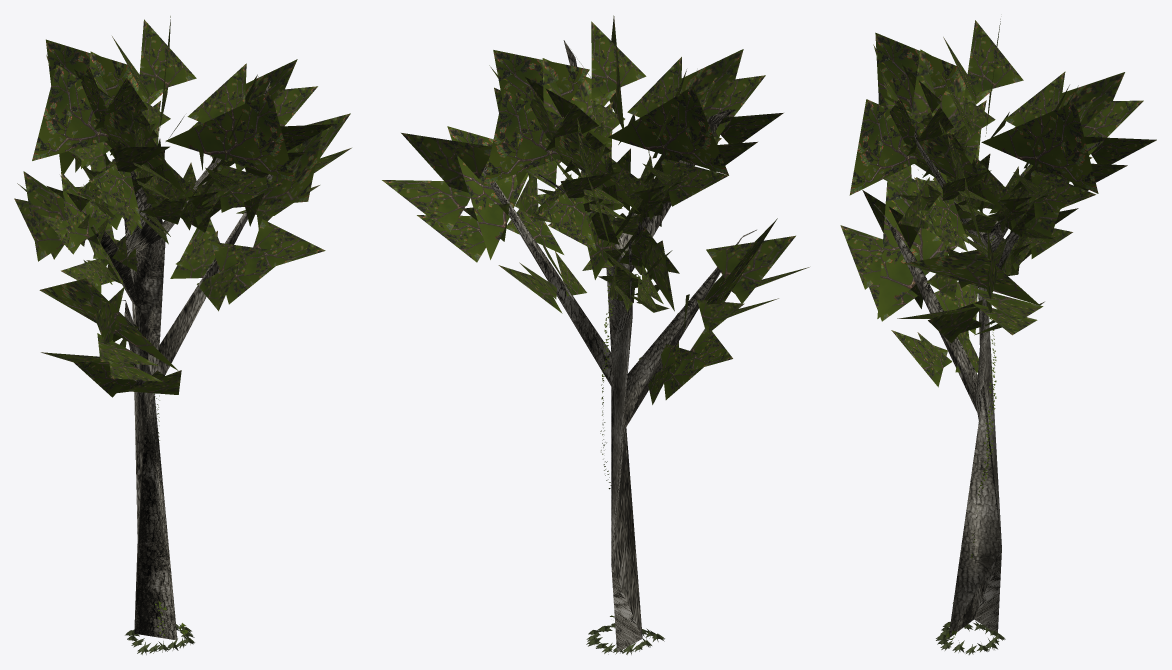
Rendered from treeA_low.obj.
3 renders of one model, left to right at view 1: azimuth 30°, elevation 25°; view 2: azimuth 150°, elevation 25°; view 3: azimuth 270°, elevation 25°, orthographic.
Size of the model in its own units: 11.29 by 18.65 by 9.13.
